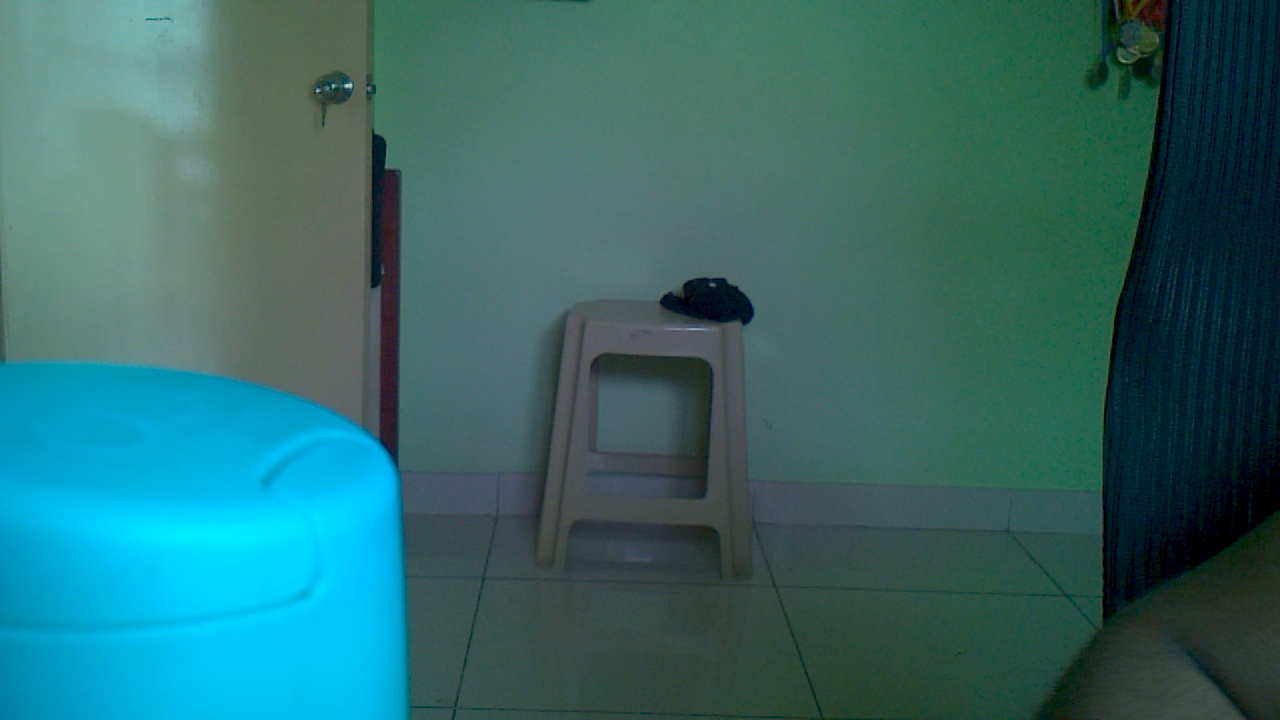waterbottle: (1, 338, 429, 720)
